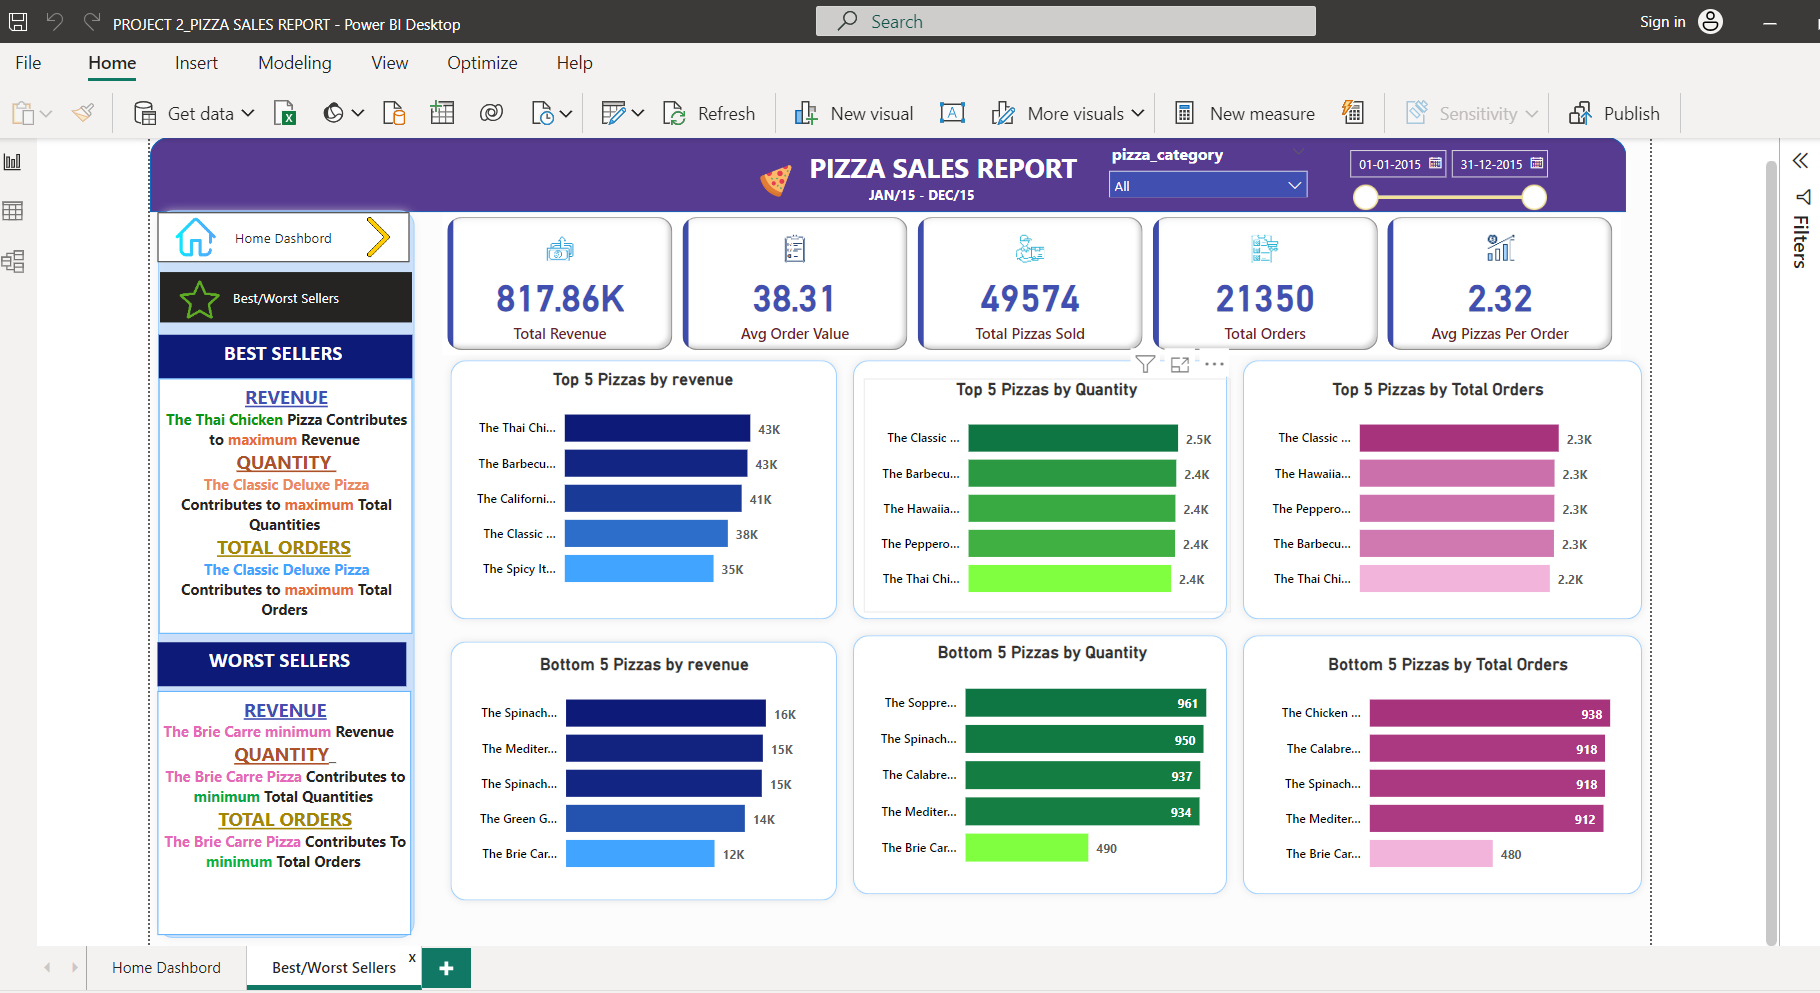

The dashboard page shown, as its layout file describes it:
{"tool":"powerbi","page":{"name":"Best/Worst Sellers ","canvas":[1500,820],"ordinal":1},"visuals":[{"type":"cardVisual","fields":{"Data":["project pizza_sales.Total Revenue","project pizza_sales.Avg Order Value","project pizza_sales.Total Pizzas Sold","project pizza_sales.Total Orders","project pizza_sales.Avg Pizzas Per Order"]},"box":[292.8,86.7,1178.3,143.4],"z":0},{"type":"shape","box":[0,11.2,1476.2,75],"z":1000},{"type":"textbox","box":[645,18.8,303.8,50],"z":2000},{"type":"textbox","box":[713.8,55,130,31.2],"z":3000},{"type":"image","box":[597.5,33.8,56.2,42.5],"z":4000},{"type":"shape","box":[292.5,226.2,402.5,275],"z":5000},{"type":"shape","box":[0,76.2,272.5,743.8],"z":6000},{"type":"textbox","box":[8.8,208.8,253.8,43.8],"z":7000},{"type":"textbox","box":[8.8,252.5,253.8,255],"z":8000},{"type":"textbox","box":[7.5,516.2,248.8,43.8],"z":9000},{"type":"textbox","box":[7.5,565,253.8,243.8],"z":10000},{"type":"slicer","fields":{"Values":["project pizza_sales.pizza_category"]},"box":[948.8,11.2,218.8,60],"z":11000},{"type":"slicer","fields":{"Values":["project pizza_sales.order_date"]},"box":[1188,14,218,72],"z":12000},{"type":"shape","box":[695,226.2,390,275],"z":13000},{"type":"shape","box":[1085,226.2,415,275],"z":14000},{"type":"shape","box":[292.5,507.5,402.5,275],"z":15000},{"type":"shape","box":[695,501.2,390,275],"z":16000},{"type":"shape","box":[1085,501.2,415,275],"z":17000},{"type":"barChart","title":"Top 5 Pizzas by revenue","fields":{"Category":["project pizza_sales.pizza_name"],"Y":["project pizza_sales.Total Revenue"]},"box":[310,242.5,366.2,233.8],"z":18000},{"type":"barChart","title":"Bottom 5 Pizzas by revenue","fields":{"Category":["project pizza_sales.pizza_name"],"Y":["project pizza_sales.Total Revenue"]},"box":[311.2,527.5,366.2,233.8],"z":19000},{"type":"barChart","title":"Top 5 Pizzas by Quantity","fields":{"Category":["project pizza_sales.pizza_name"],"Y":["project pizza_sales.Total Pizzas Sold"]},"box":[713.8,252.5,366.2,233.8],"z":20000},{"type":"barChart","title":"Bottom 5 Pizzas by Quantity","fields":{"Category":["project pizza_sales.pizza_name"],"Y":["project pizza_sales.Total Pizzas Sold"]},"box":[713.8,516.2,357.5,240],"z":21000},{"type":"barChart","title":"Top 5 Pizzas by Total Orders","fields":{"Category":["project pizza_sales.pizza_name"],"Y":["project pizza_sales.Total Orders"]},"box":[1105,252.5,366.2,233.8],"z":22000},{"type":"barChart","title":"Bottom 5 Pizzas by Total Orders","fields":{"Category":["project pizza_sales.pizza_name"],"Y":["project pizza_sales.Total Orders"]},"box":[1115,527.5,366.2,233.8],"z":23000},{"type":"pageNavigator","box":[10,146.2,252.5,50],"z":24000},{"type":"pageNavigator","box":[7.5,86.2,252.5,50],"z":25000},{"type":"image","box":[201.2,86.2,55,50],"z":26000},{"type":"image","box":[13.8,86.2,63.8,50],"z":27000},{"type":"image","box":[13.8,148.8,71.2,50],"z":28000}]}

Visuals, with their boxes on the page's 1500x820 design canvas (x1, y1, x2, y2). These are canvas units, not pixel positions in the 1820x993 screenshot, which may show the page scaled, cropped or inside an application window:
cardVisual - project pizza_sales.Total Revenue x project pizza_sales.Avg Order Value: bbox=(293, 87, 1471, 230)
shape: bbox=(0, 11, 1476, 86)
textbox: bbox=(645, 19, 949, 69)
textbox: bbox=(714, 55, 844, 86)
image: bbox=(598, 34, 654, 76)
shape: bbox=(292, 226, 695, 501)
shape: bbox=(0, 76, 272, 820)
textbox: bbox=(9, 209, 263, 253)
textbox: bbox=(9, 252, 263, 508)
textbox: bbox=(8, 516, 256, 560)
textbox: bbox=(8, 565, 261, 809)
slicer - project pizza_sales.pizza_category: bbox=(949, 11, 1168, 71)
slicer - project pizza_sales.order_date: bbox=(1188, 14, 1406, 86)
shape: bbox=(695, 226, 1085, 501)
shape: bbox=(1085, 226, 1500, 501)
shape: bbox=(292, 508, 695, 782)
shape: bbox=(695, 501, 1085, 776)
shape: bbox=(1085, 501, 1500, 776)
"Top 5 Pizzas by revenue" barChart: bbox=(310, 242, 676, 476)
"Bottom 5 Pizzas by revenue" barChart: bbox=(311, 528, 677, 761)
"Top 5 Pizzas by Quantity" barChart: bbox=(714, 252, 1080, 486)
"Bottom 5 Pizzas by Quantity" barChart: bbox=(714, 516, 1071, 756)
"Top 5 Pizzas by Total Orders" barChart: bbox=(1105, 252, 1471, 486)
"Bottom 5 Pizzas by Total Orders" barChart: bbox=(1115, 528, 1481, 761)
pageNavigator: bbox=(10, 146, 262, 196)
pageNavigator: bbox=(8, 86, 260, 136)
image: bbox=(201, 86, 256, 136)
image: bbox=(14, 86, 78, 136)
image: bbox=(14, 149, 85, 199)
